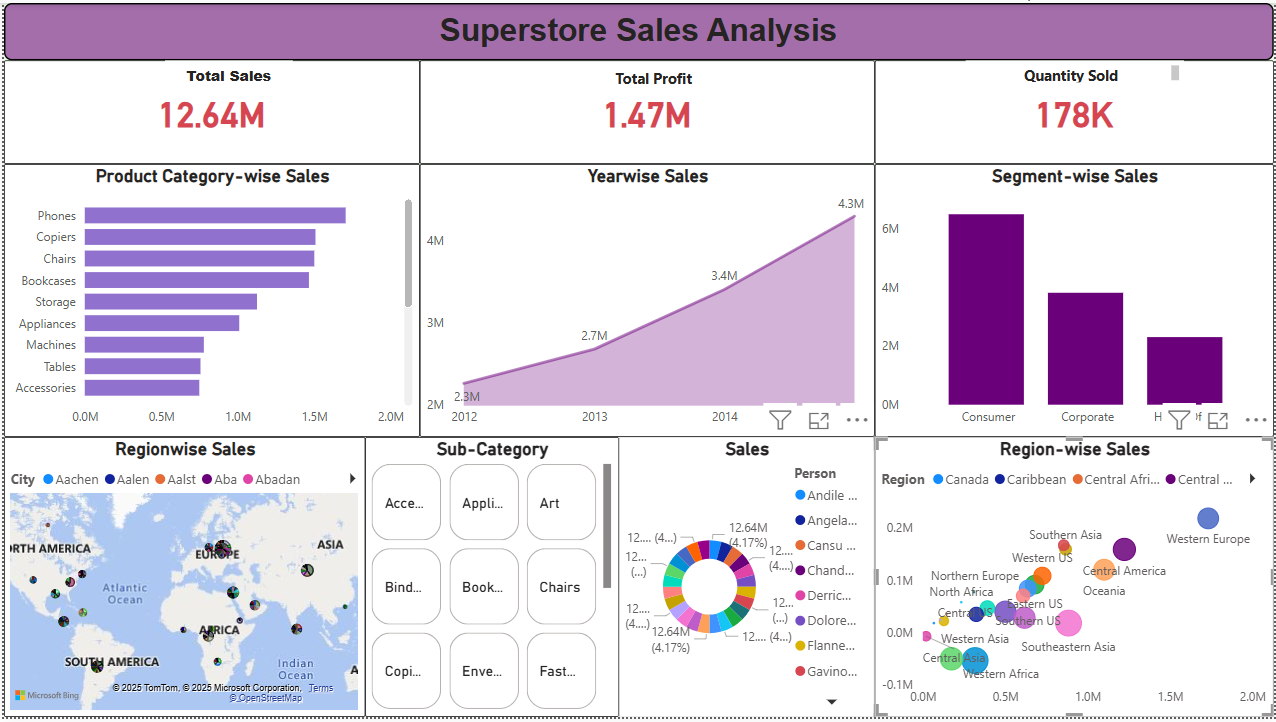

This screenshot's page, from the dashboard's own definition file:
{"tool":"powerbi","page":{"name":"Page 1","canvas":[1280,720],"ordinal":0},"visuals":[{"type":"barChart","title":"Product Category-wise Sales","fields":{"Y":["Orders.Sales"],"Category":["Orders.Sub-Category"]},"box":[0,162.3,419.2,275.2],"z":0},{"type":"areaChart","title":"Yearwise Sales","fields":{"Category":["Orders.Order Date.Variation.Date Hierarchy.Year"],"Y":["Orders.Sales"]},"box":[419.2,162.3,458.7,275.2],"z":1000},{"type":"map","title":"Regionwise Sales","fields":{"Size":["Orders.Sales"],"Series":["Orders.City"],"Category":["Orders.Region"]},"box":[0,437.5,364.1,282.3],"z":2000},{"type":"columnChart","title":"Segment-wise Sales","fields":{"Category":["Orders.Segment"],"Y":["Orders.Sales"]},"box":[877.8,162.3,402.2,275.2],"z":3000},{"type":"scatterChart","title":"Region-wise Sales","fields":{"X":["Orders.Sales"],"Y":["Orders.Profit"],"Size":["Orders.Discount"],"Series":["Orders.Region"]},"box":[877.8,437.5,402.2,282.3],"z":4000},{"type":"textbox","box":[0,0,1280.1,57.9],"z":5000},{"type":"advancedSlicerVisual","fields":{"Values":["Orders.Sub-Category"]},"box":[364.1,437.5,255.5,282.3],"z":6000},{"type":"donutChart","title":"Sales","fields":{"Y":["Orders.Sales"],"Category":["People.Person"]},"box":[619.6,437.5,258.3,282.3],"z":7000},{"type":"card","fields":{"Values":["Orders.Sales"]},"box":[0,57.9,419.2,104.4],"z":8000},{"type":"card","fields":{"Values":["Orders.Profit"]},"box":[419.2,57.9,458.7,104.4],"z":9000},{"type":"card","fields":{"Values":["Orders.Quantity"]},"box":[877.8,57.9,402.2,104.4],"z":10000},{"type":"textbox","box":[162.3,57.9,128.4,39.5],"z":11000},{"type":"textbox","box":[582.9,60.7,144,36.7],"z":11001},{"type":"textbox","box":[969.6,57.9,220.2,26.8],"z":11002}]}

Visuals, with their boxes in screenshot pixels (x1, y1, x2, y2), scaled from the page's 1280x720 canvas onto the 1276x722 screenshot:
"Product Category-wise Sales" barChart: <box>0,163,418,439</box>
"Yearwise Sales" areaChart: <box>418,163,875,439</box>
"Regionwise Sales" map: <box>0,439,363,721</box>
"Segment-wise Sales" columnChart: <box>875,163,1275,439</box>
"Region-wise Sales" scatterChart: <box>875,439,1275,721</box>
textbox: <box>0,0,1275,58</box>
advancedSlicerVisual - Orders.Sub-Category: <box>363,439,618,721</box>
"Sales" donutChart: <box>618,439,875,721</box>
card - Orders.Sales: <box>0,58,418,163</box>
card - Orders.Profit: <box>418,58,875,163</box>
card - Orders.Quantity: <box>875,58,1275,163</box>
textbox: <box>162,58,290,98</box>
textbox: <box>581,61,725,98</box>
textbox: <box>967,58,1186,85</box>
